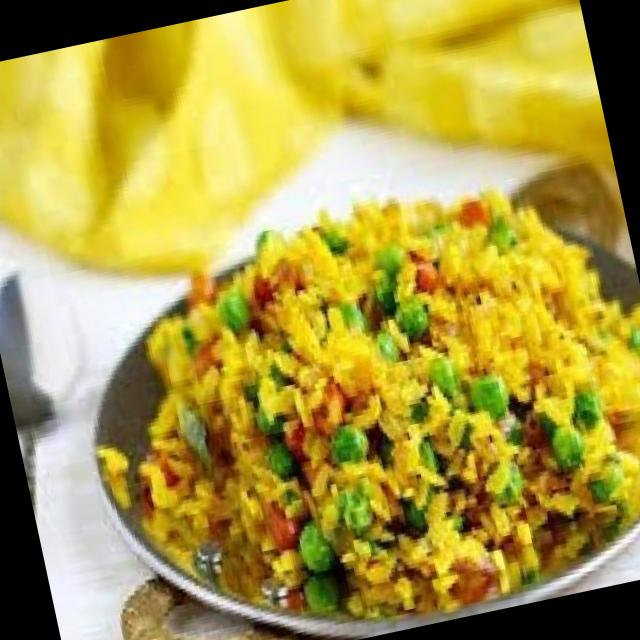poha: (91, 146, 640, 640)
